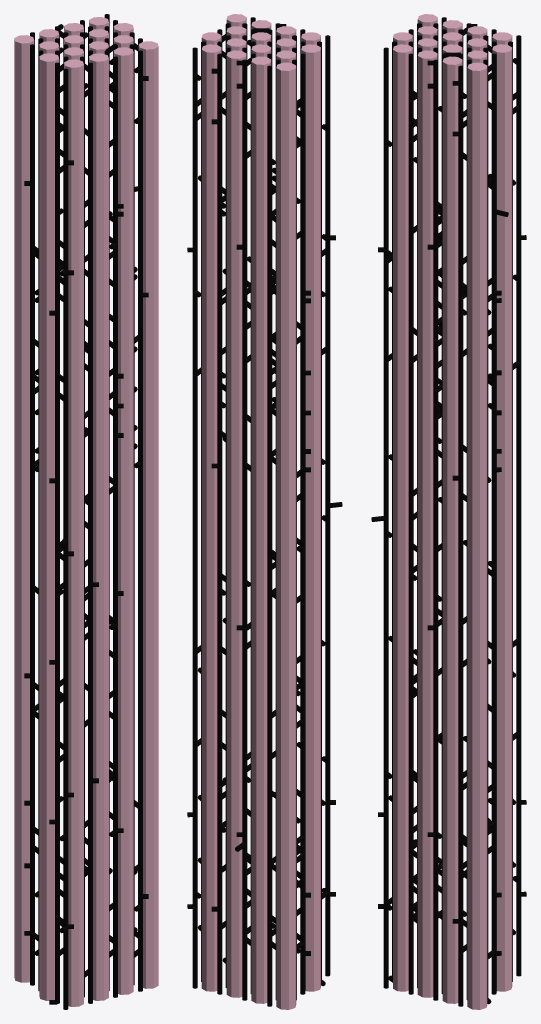
Rendered from myocytes_vessels_singlecolor.glb.
3 renders of one model, left to right at view 1: azimuth 30°, elevation 25°; view 2: azimuth 150°, elevation 25°; view 3: azimuth 330°, elevation 25°, orthographic.
Parts seen in each view (by area): view 1: Cylinder.006, Cylinder.014, Cylinder, Cylinder.001, Cylinder.002, Cylinder.010, Cylinder.548, Cylinder.025, Cylinder.218, Cylinder.207, Cylinder.118, Cylinder.369 (+30 smaller); view 2: Cylinder.001, Cylinder.005, Cylinder.013, Cylinder.009, Cylinder, Cylinder.647, Cylinder.356, Cylinder.025, Cylinder.529, Cylinder.199, Cylinder.029, Cylinder.094 (+35 smaller); view 3: Cylinder.014, Cylinder.010, Cylinder.006, Cylinder.015, Cylinder.002, Cylinder.548, Cylinder.615, Cylinder.647, Cylinder.025, Cylinder.218, Cylinder.207, Cylinder.369 (+31 smaller).
Part boxes in pixels (left/top/right/bottom): Cylinder.006: left=89, top=53, right=108, bottom=1000; Cylinder.014: left=138, top=41, right=158, bottom=988; Cylinder: left=39, top=53, right=59, bottom=1000; Cylinder.001: left=14, top=35, right=34, bottom=982; Cylinder.002: left=64, top=59, right=83, bottom=1006; Cylinder.010: left=113, top=47, right=133, bottom=994; Cylinder.548: left=138, top=463, right=142, bottom=897; Cylinder.025: left=63, top=554, right=68, bottom=795; Cylinder.218: left=88, top=136, right=92, bottom=371; Cylinder.207: left=88, top=781, right=92, bottom=1003; Cylinder.118: left=30, top=184, right=34, bottom=393; Cylinder.369: left=113, top=625, right=117, bottom=830; Cylinder.001: left=276, top=62, right=296, bottom=1009; Cylinder.005: left=251, top=56, right=271, bottom=1003; Cylinder.013: left=201, top=44, right=221, bottom=991; Cylinder.009: left=226, top=50, right=246, bottom=997; Cylinder: left=301, top=44, right=320, bottom=991; Cylinder.647: left=192, top=375, right=197, bottom=653; Cylinder.356: left=242, top=328, right=247, bottom=581; Cylinder.025: left=325, top=520, right=330, bottom=762; Cylinder.529: left=217, top=591, right=222, bottom=827; Cylinder.199: left=267, top=551, right=272, bottom=717; Cylinder.029: left=325, top=348, right=330, bottom=506; Cylinder.094: left=300, top=144, right=305, bottom=294; Cylinder.014: left=467, top=62, right=487, bottom=1009; Cylinder.010: left=442, top=56, right=462, bottom=1003; Cylinder.006: left=417, top=50, right=437, bottom=997; Cylinder.015: left=492, top=44, right=512, bottom=991; Cylinder.002: left=393, top=44, right=412, bottom=991; Cylinder.548: left=458, top=478, right=463, bottom=911; Cylinder.615: left=491, top=470, right=496, bottom=768; Cylinder.647: left=516, top=363, right=521, bottom=640; Cylinder.025: left=383, top=533, right=388, bottom=773; Cylinder.218: left=408, top=127, right=413, bottom=362; Cylinder.207: left=408, top=772, right=413, bottom=994; Cylinder.369: left=433, top=628, right=438, bottom=833.
Bounding box in the file's own units: 124 × 1004 × 115.
